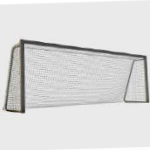goals: (2, 37, 150, 116)
